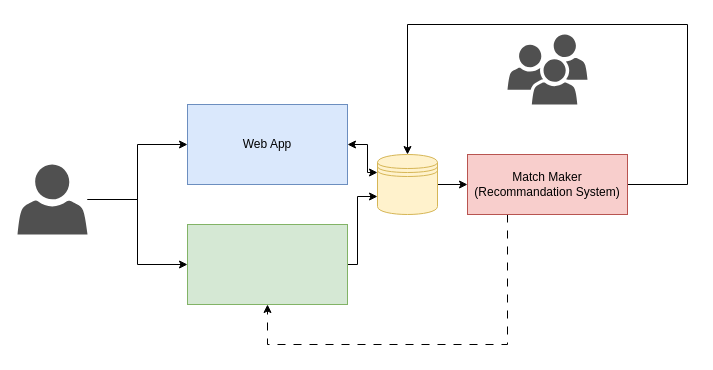
The diagram is 713 pixels wide and 370 high, and some of its shapes have lost their labels. Each missing label, with the centre of its shape:
Database: the point at 407,184
Hardware: the point at 267,264
